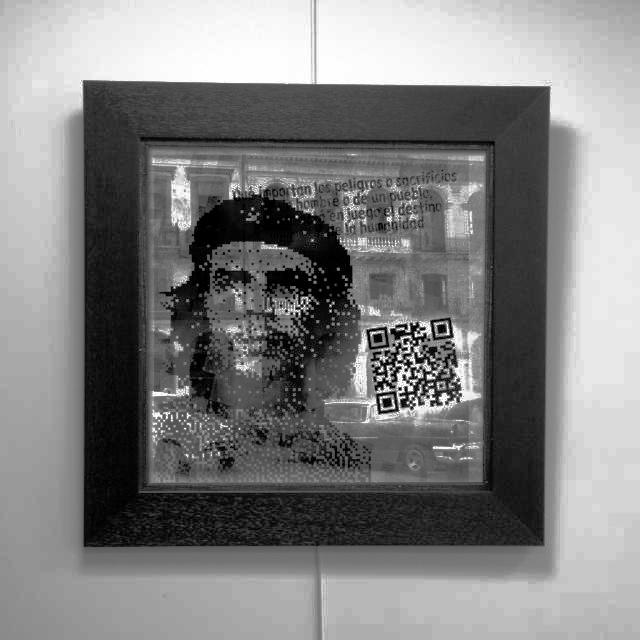qr_code: (366, 317, 463, 414)
